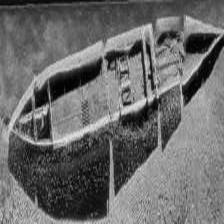ship: (9, 15, 224, 148)
